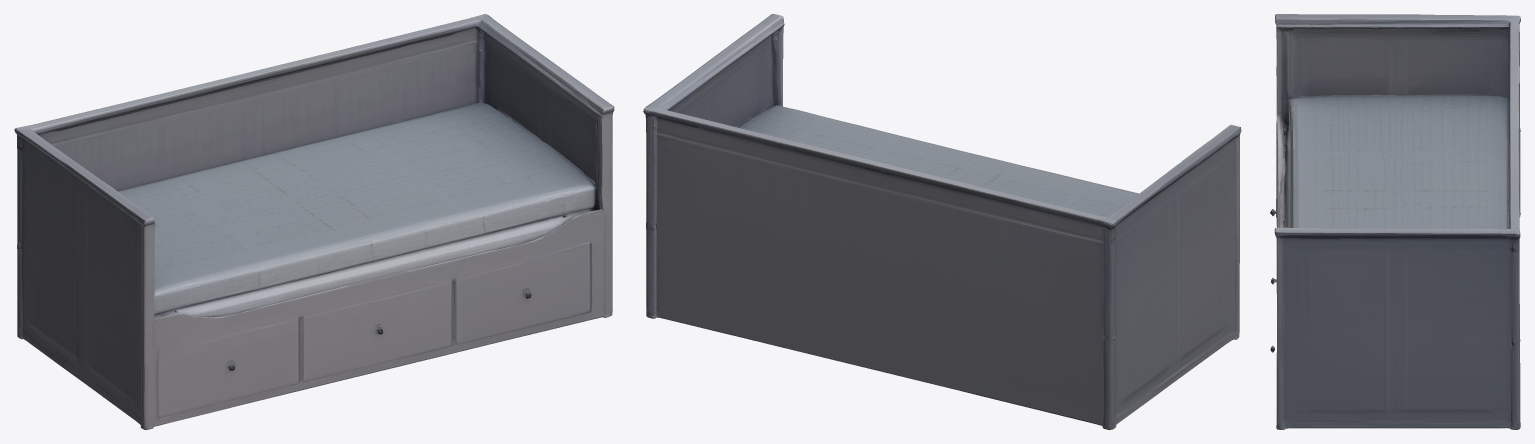
File: sofas_armchairs_fu003_image_4.glb
3 renders of one model, left to right at view 1: azimuth 30°, elevation 25°; view 2: azimuth 150°, elevation 25°; view 3: azimuth 270°, elevation 25°, orthographic. The views are drawn at different scales.
Visible parts, largest first — view 1: world; view 2: world; view 3: world.
Part boxes in pixels (bbox=[...]): world: bbox=[14, 14, 614, 429]; world: bbox=[643, 14, 1241, 429]; world: bbox=[1270, 14, 1520, 429].
Bounding box in the file's own units: 0.9949 × 0.425 × 0.4833.
Materials: 1 (1 with a texture image).
